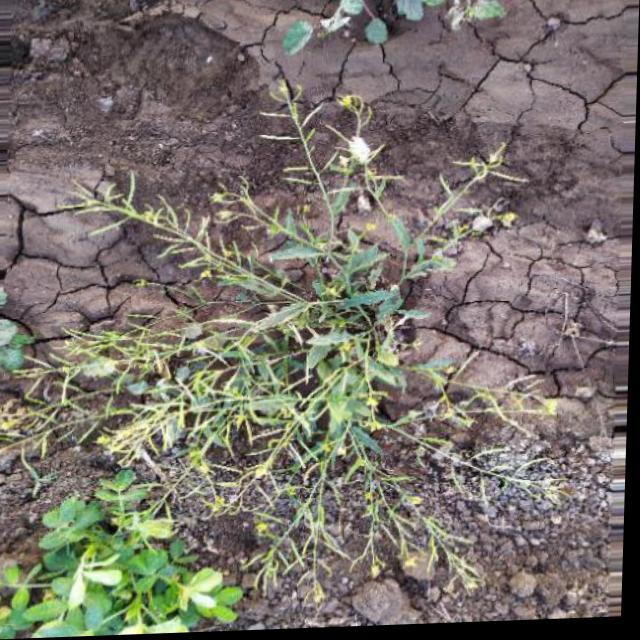weed: (74, 184, 557, 557)
